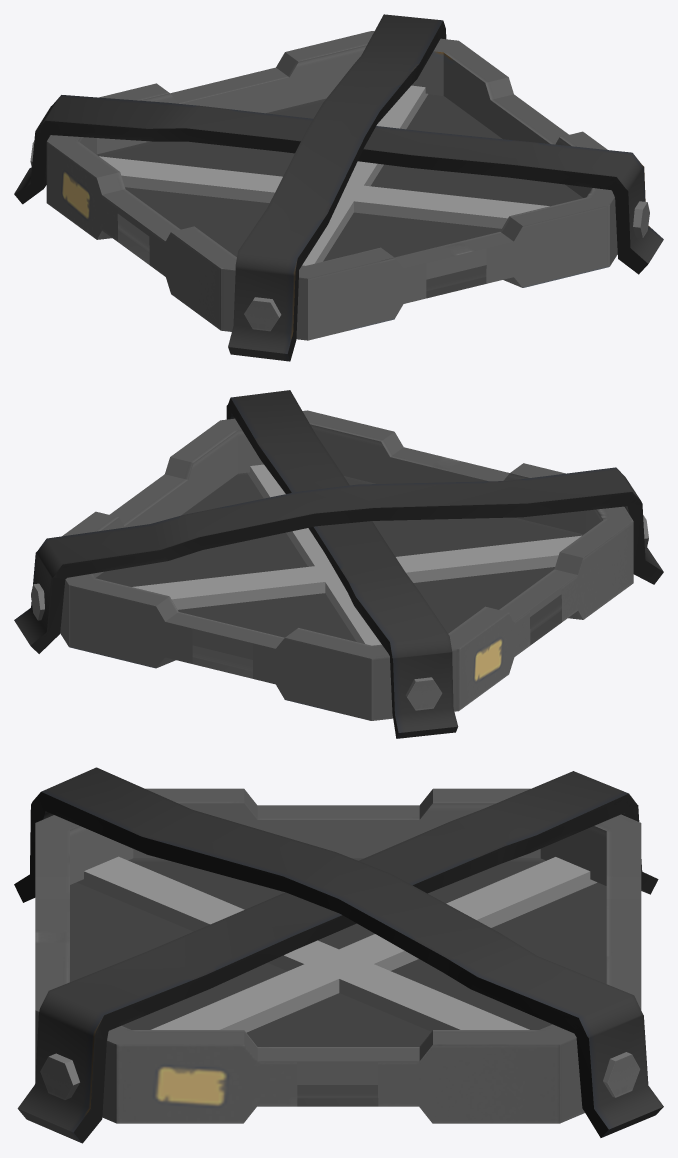
File: AutoLift_off.fbx
The picture shows the model from 3 angles, top to bottom: view 1: azimuth 30°, elevation 25°; view 2: azimuth 150°, elevation 25°; view 3: azimuth 270°, elevation 25°; orthographic projection. The views are drawn at different scales.
Visible parts, largest first — view 1: AutoLift; view 2: AutoLift; view 3: AutoLift.
Part boxes in pixels (box(x1,y1,x2,y2)): AutoLift: box(14, 14, 663, 361); AutoLift: box(14, 390, 663, 738); AutoLift: box(14, 767, 663, 1143).
Bounding box in the file's own units: 3.39 × 3.39 × 0.9064.
